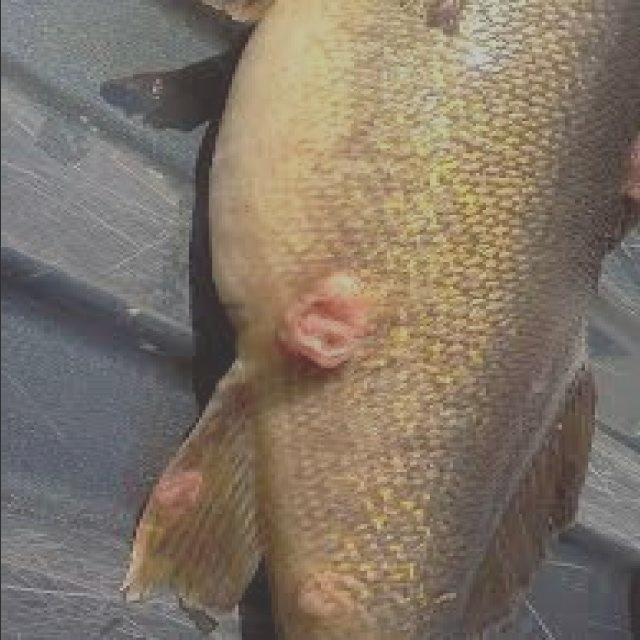EUS Disease: (127, 0, 640, 640), (150, 263, 465, 640)
